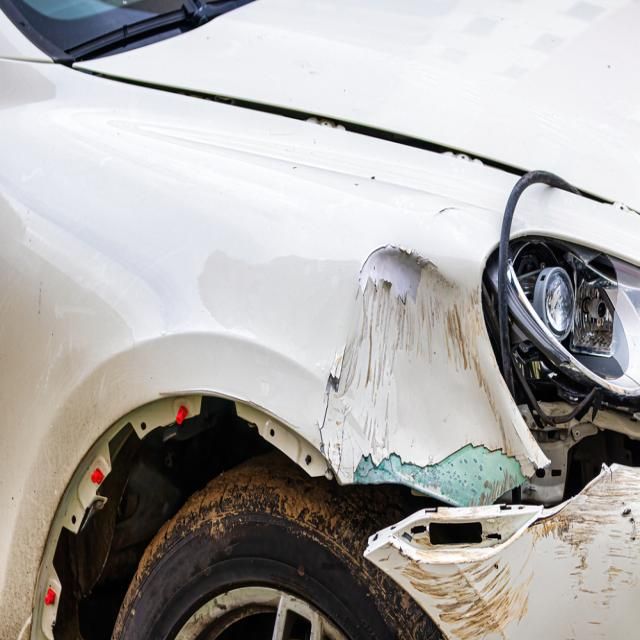dent: (320, 246, 538, 505)
lamp broken: (479, 240, 640, 463)
scratch: (383, 464, 640, 640)
